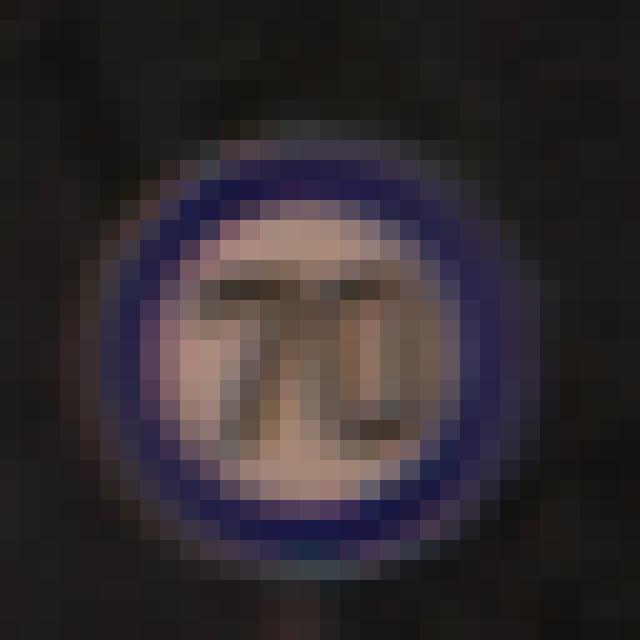SPEED LIMIT 70: (103, 153, 505, 564)
